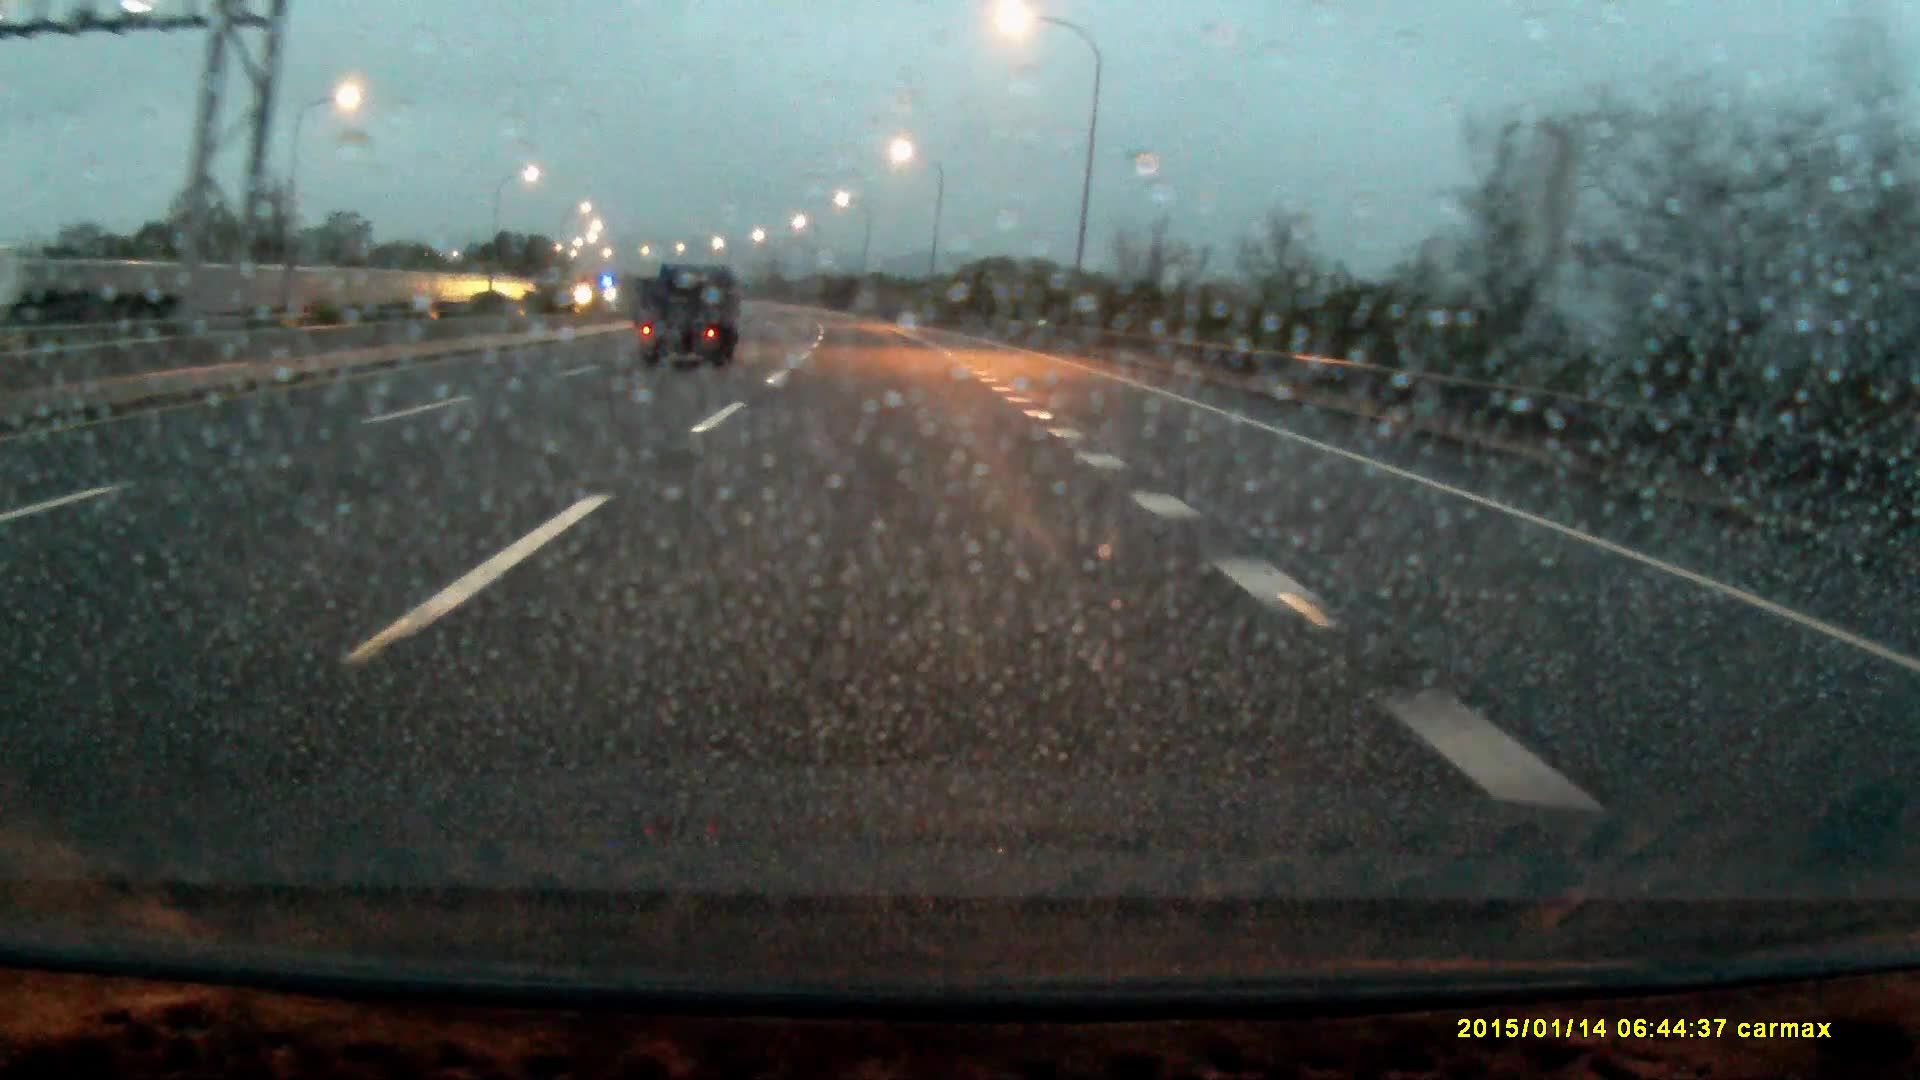vehicle: (8, 261, 202, 324), (637, 258, 742, 369)
